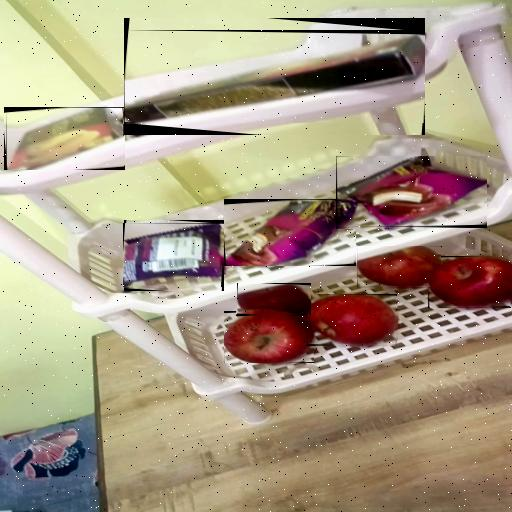Apple: (225, 311, 313, 363), (308, 295, 396, 345), (429, 257, 510, 307), (358, 247, 441, 287), (238, 285, 311, 315)
Choco Fills: (125, 35, 425, 123), (7, 108, 124, 170)
Choco Pie: (337, 156, 487, 227), (226, 200, 354, 266), (124, 224, 223, 287)
